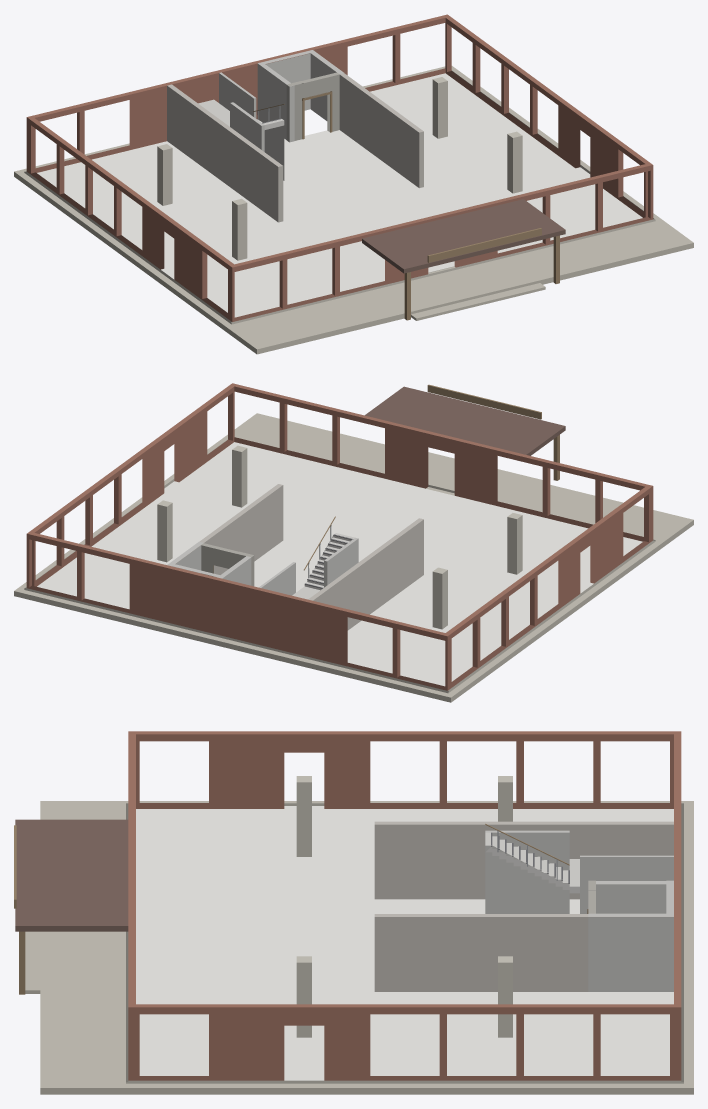
Rendered from brick-lobby.gaps-v1.lod0.glb.
3 views of the same model, one above another, from view 1: azimuth 30°, elevation 25°; view 2: azimuth 150°, elevation 25°; view 3: azimuth 270°, elevation 25° (orthographic). The views are drawn at different scales.
Visible parts, largest first — view 1: brick-lobby; view 2: brick-lobby; view 3: brick-lobby.
Boxes of the visible parts, <box> form: brick-lobby: <box>14,14,693,354</box>; brick-lobby: <box>14,383,693,702</box>; brick-lobby: <box>14,731,693,1094</box>.
Size of the model in its own units: 27 by 4.89 by 27.05.
